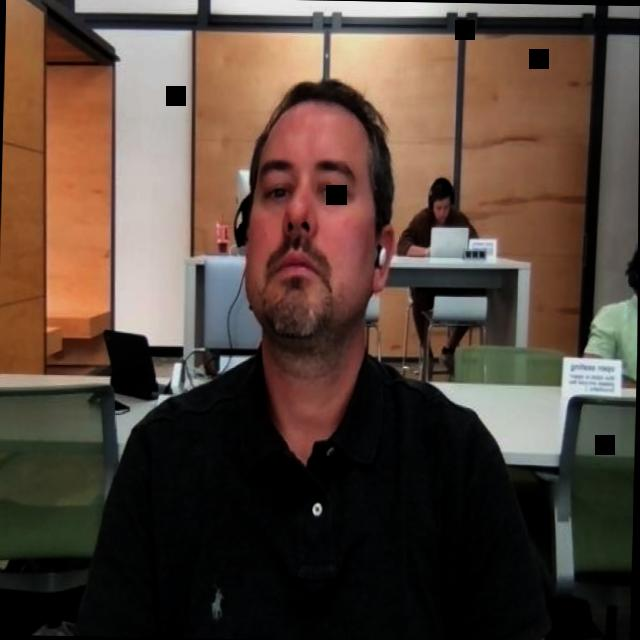NO-Mask: (242, 82, 395, 336), (427, 176, 453, 227), (627, 229, 639, 317)
